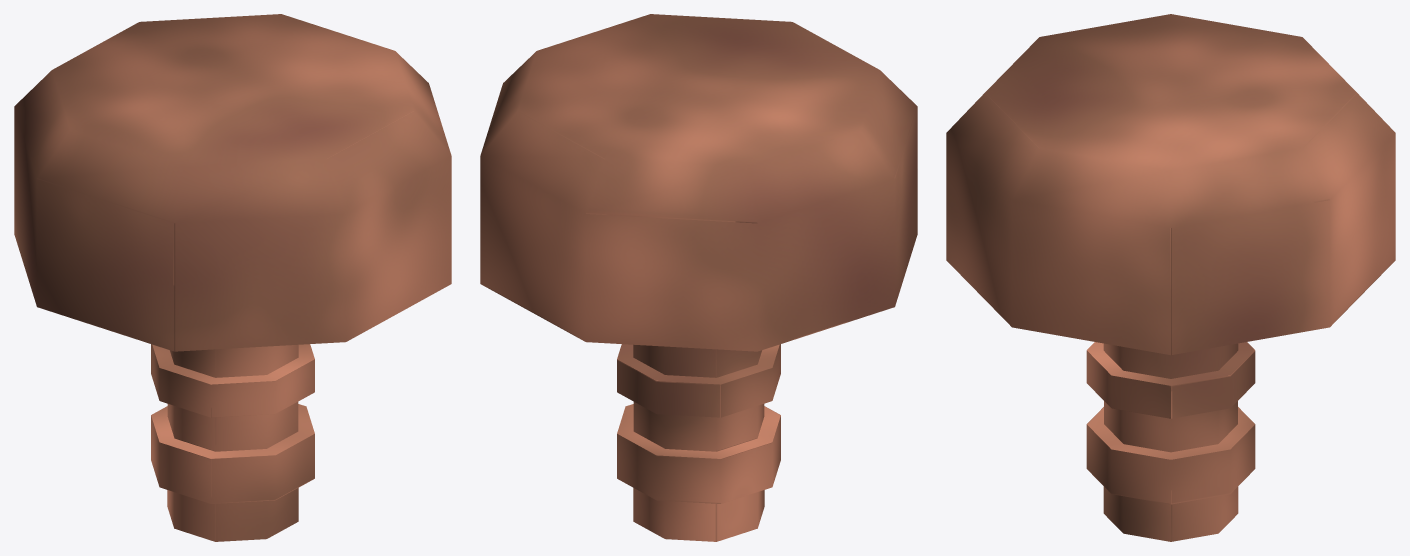
File: Tornillo.fbx
3 renders of one model, left to right at view 1: azimuth 30°, elevation 25°; view 2: azimuth 150°, elevation 25°; view 3: azimuth 270°, elevation 25°, orthographic.
Visible parts, largest first — view 1: Tornillo; view 2: Tornillo; view 3: Tornillo.
Part boxes in pixels (left/top/right/bottom): Tornillo: left=14, top=14, right=451, bottom=541; Tornillo: left=480, top=14, right=917, bottom=541; Tornillo: left=946, top=14, right=1395, bottom=541.
Size of the model in its own units: 64 by 66.12 by 64.
